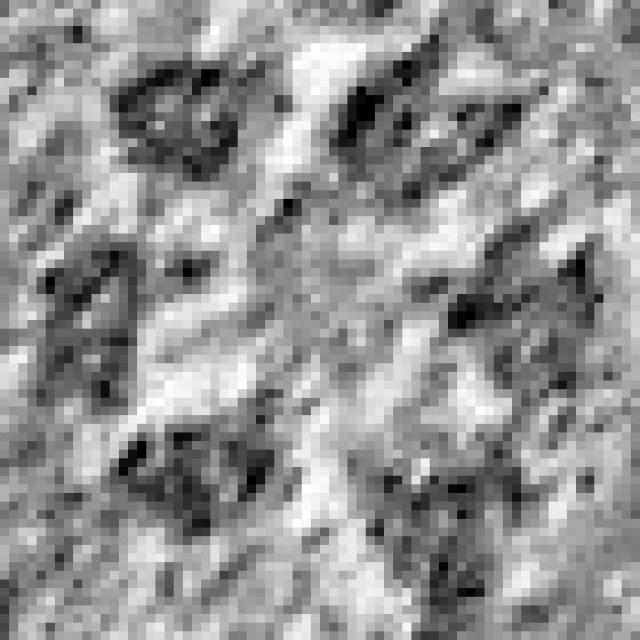inner: (182, 178, 429, 423)
lobe: (337, 427, 564, 640), (435, 214, 621, 409), (326, 38, 527, 218), (105, 54, 283, 187), (27, 239, 160, 413), (114, 412, 303, 531)
outer: (0, 0, 640, 640)
